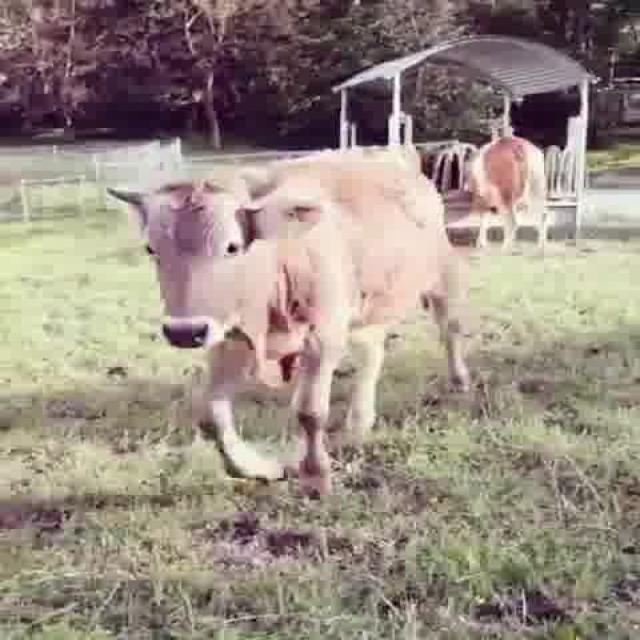cowFace: (98, 165, 326, 351)
